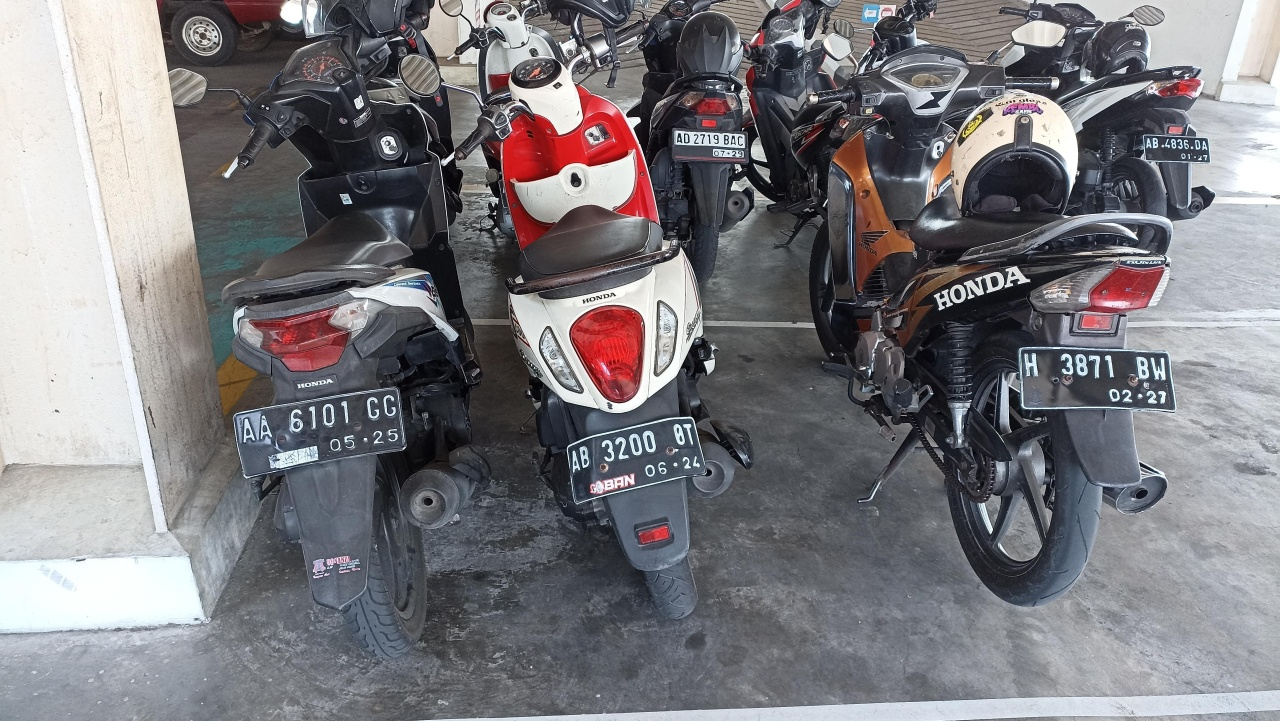plate: (234, 387, 407, 479), (567, 418, 707, 505), (1019, 348, 1177, 412), (673, 128, 748, 162), (1143, 135, 1211, 163)
